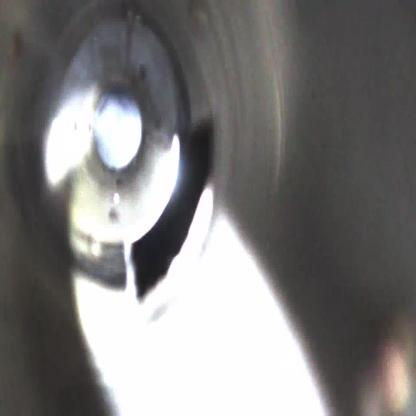Crack2: (124, 113, 226, 307)
